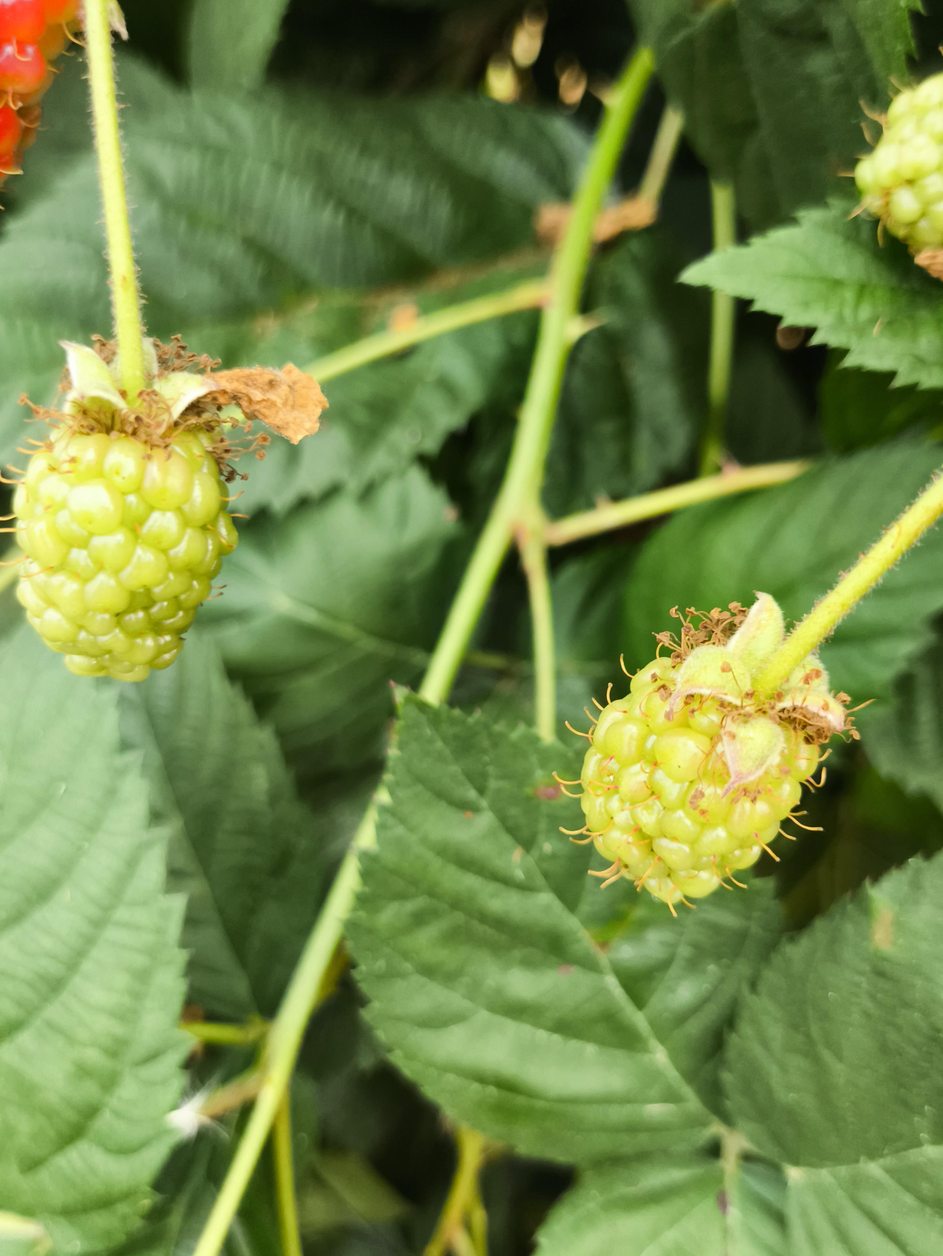verde: (14, 342, 238, 683), (576, 660, 818, 910)
